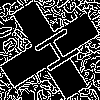H: (25, 25, 82, 80)
